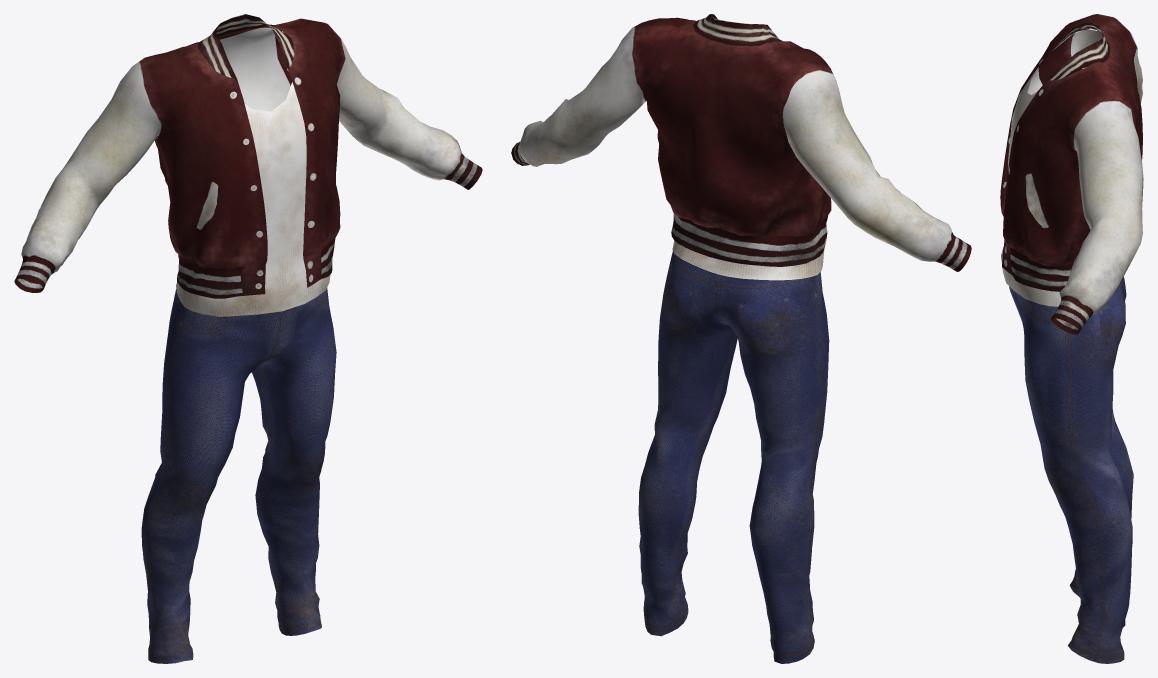
Rendered from mens_clothing_for_game.glb.
3 renders of one model, left to right at view 1: azimuth 30°, elevation 25°; view 2: azimuth 150°, elevation 25°; view 3: azimuth 270°, elevation 25°, orthographic. The views are drawn at different scales.
Visible parts, largest first — view 1: Object_3, Object_4, Object_2; view 2: Object_3, Object_4, Object_2; view 3: Object_3, Object_4, Object_2.
Part boxes in pixels (<box>): Object_3: <box>14,14,482,298</box>; Object_4: <box>141,287,336,663</box>; Object_2: <box>176,27,330,316</box>; Object_3: <box>511,14,971,271</box>; Object_4: <box>638,251,829,663</box>; Object_2: <box>672,240,824,280</box>; Object_3: <box>1000,14,1143,334</box>; Object_4: <box>1009,276,1133,663</box>; Object_2: <box>1001,28,1097,306</box>.
Bounding box in the file's own units: 1194 × 1552 × 336.
Materials: 3 (3 with a texture image).
